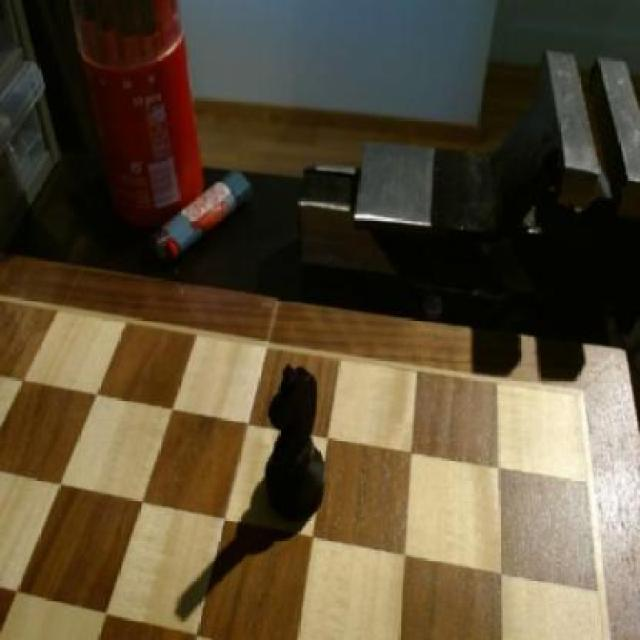black-king: (258, 355, 334, 524)
